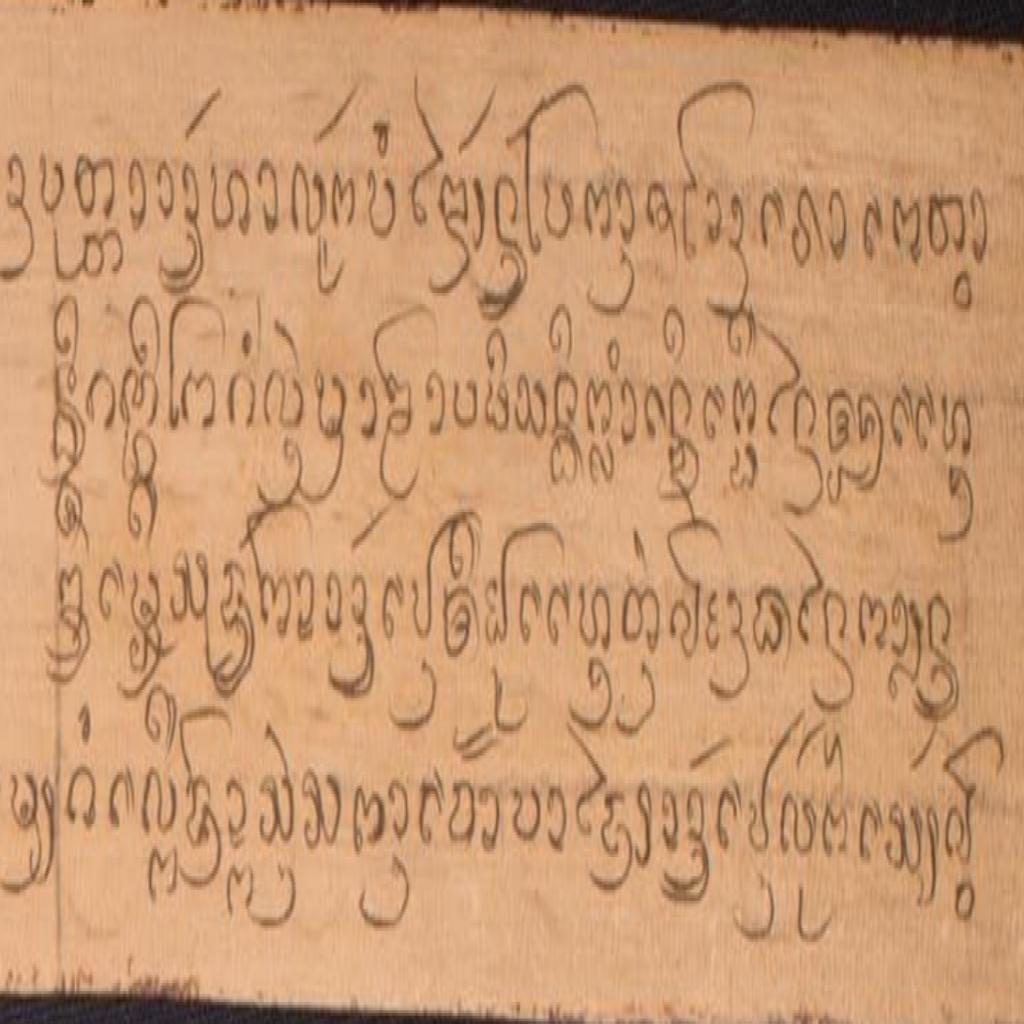LN008: (600, 783, 633, 865)
LN028: (180, 360, 220, 439)
